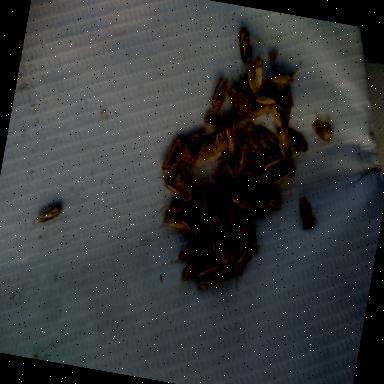pbw: (225, 240, 254, 292), (170, 163, 206, 203), (172, 209, 207, 247), (216, 150, 248, 190), (30, 200, 63, 238), (180, 242, 206, 288), (240, 54, 266, 99), (232, 22, 258, 67), (208, 73, 231, 121), (217, 111, 241, 157), (172, 136, 201, 171), (192, 187, 218, 224), (237, 120, 264, 154), (166, 140, 190, 176), (161, 132, 181, 174), (295, 198, 321, 230), (192, 140, 220, 169), (173, 237, 199, 268), (268, 163, 296, 191), (253, 125, 280, 154), (234, 135, 253, 175), (265, 67, 298, 90), (195, 267, 224, 293), (155, 176, 186, 200), (256, 189, 284, 215), (195, 256, 223, 282), (226, 222, 250, 252), (242, 224, 265, 255), (207, 231, 226, 267), (309, 118, 335, 144), (204, 211, 226, 240), (266, 108, 291, 132), (284, 131, 310, 154), (214, 172, 235, 200), (161, 214, 190, 233), (282, 90, 296, 129), (228, 194, 256, 212), (240, 169, 266, 188), (184, 129, 208, 149), (274, 143, 294, 167), (224, 209, 242, 234), (193, 247, 209, 275), (254, 183, 266, 218), (259, 156, 282, 174), (249, 93, 278, 107), (168, 196, 187, 217), (203, 119, 220, 129)
